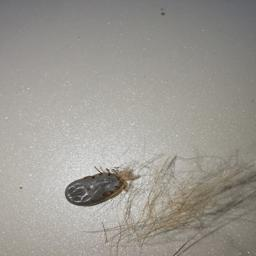Rhipicephalus sanguineus: (65, 167, 129, 206)
